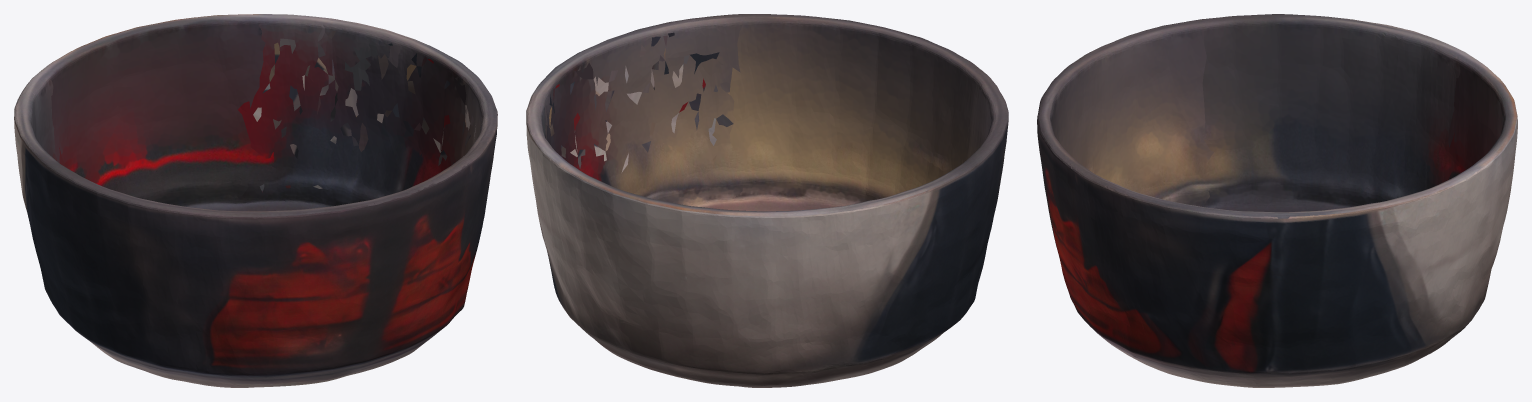
Rendered from image_0003_segmented.glb.
The picture shows the model from 3 angles, left to right: view 1: azimuth 30°, elevation 25°; view 2: azimuth 150°, elevation 25°; view 3: azimuth 270°, elevation 25°; orthographic projection.
Parts seen in each view (by area): view 1: tmplprtnzv_.ply; view 2: tmplprtnzv_.ply; view 3: tmplprtnzv_.ply.
Boxes of the visible parts, x1=… form: tmplprtnzv_.ply: x1=14, y1=14, x2=497, y2=387; tmplprtnzv_.ply: x1=526, y1=14, x2=1008, y2=387; tmplprtnzv_.ply: x1=1037, y1=14, x2=1517, y2=387.
Bounding box in the file's own units: 1.99 × 0.9104 × 1.99.
Materials: 1 (1 with a texture image).
